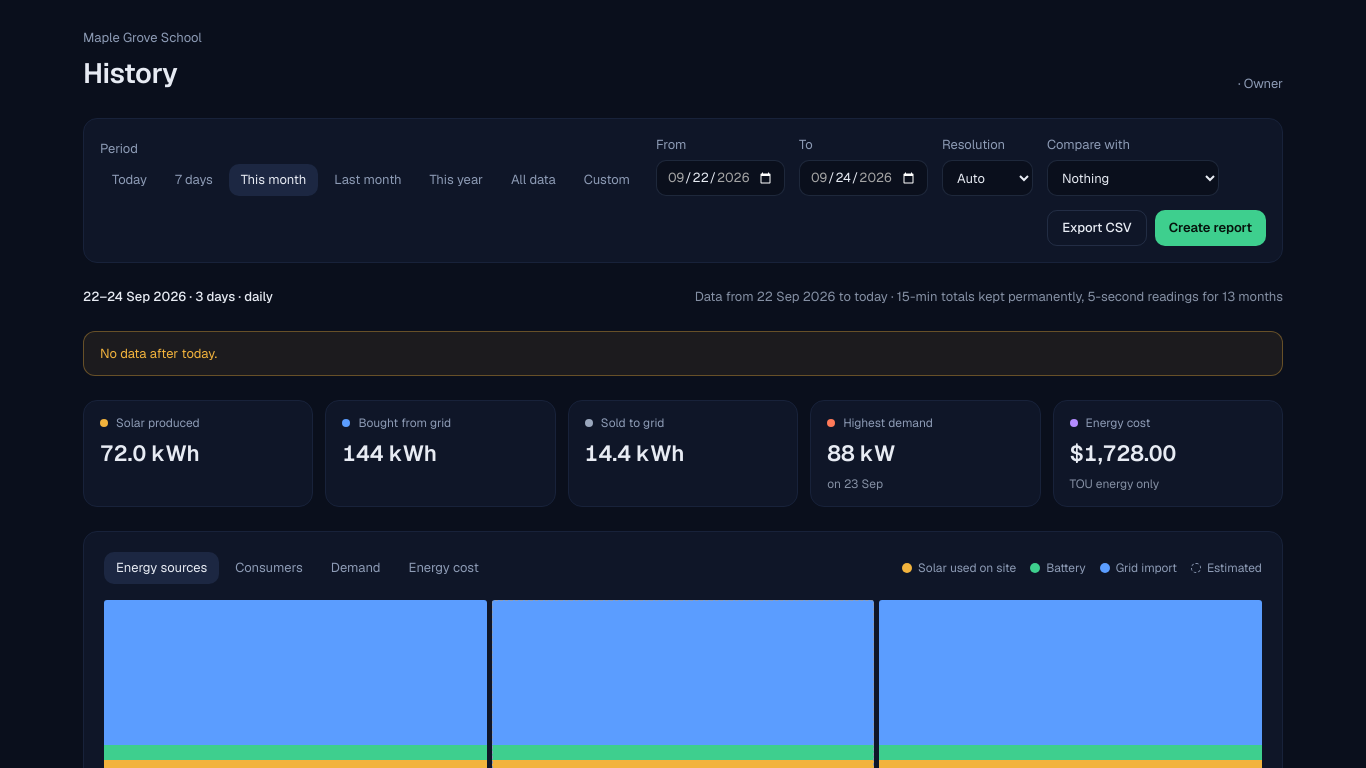
Test: History › compares with the previous period and switches views
Check: the text "22–24 Sep 2026 · 3 days · daily" is shown, box [83,287,273,306]
Select "Previous period" in the dropdown labelled "Compare with" at (1133, 178), box [1047,160,1219,196]
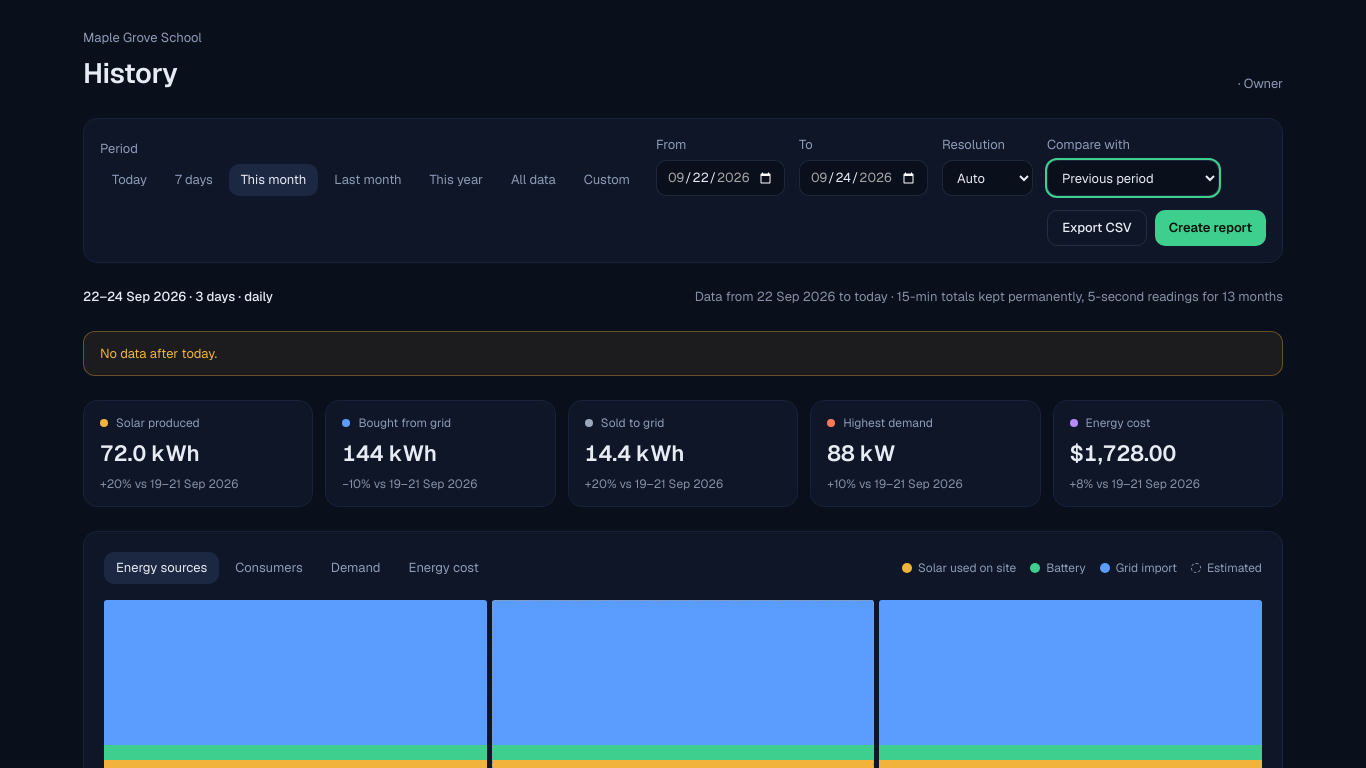
Check: the list item "Bought from grid 144 kWh −10% vs 19–21 Sep 2026" is shown, box [325,400,556,507]
Click the button "Demand" at (356, 568), box [319,552,393,584]
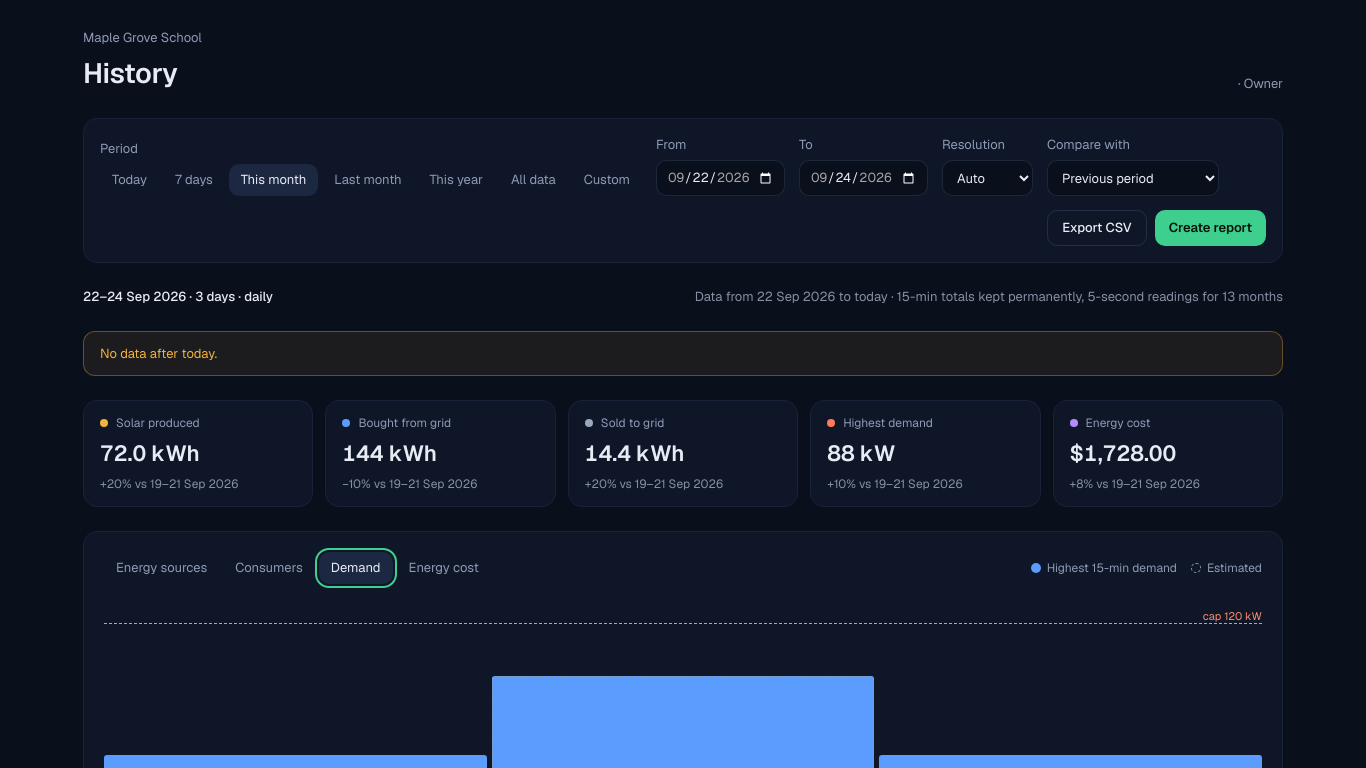
Check: the text "cap 120 kW" is shown, box [1203,608,1262,624]
